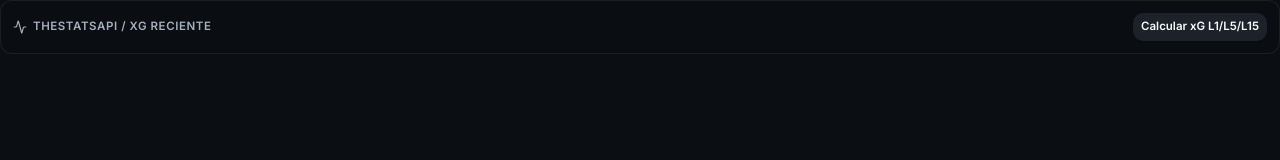
Test: XGRecentAveragesPanel — fetch trigger › surfaces the error message on a failed POST
This screenshot has width=1280, height=160.
What coordinates should you click on to do the following:
click the button with test id "xg-recent-btn-mt_001"
I would click on:
 (1200, 27)
Its box is [1133,13,1267,41].
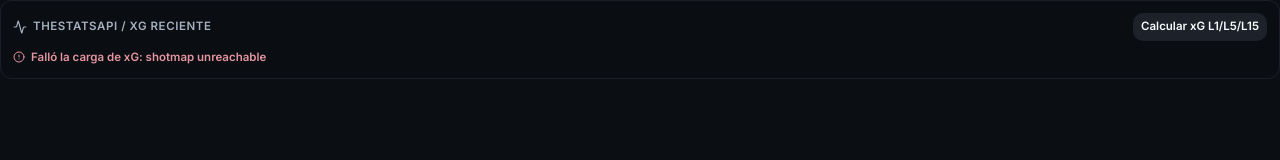
Now the element with test id "xg-recent-error-mt_001" is shown, box [13,50,266,64]
Now the element with test id "xg-recent-error-mt_001" shows "shotmap unreachable", box [146,50,266,64]
